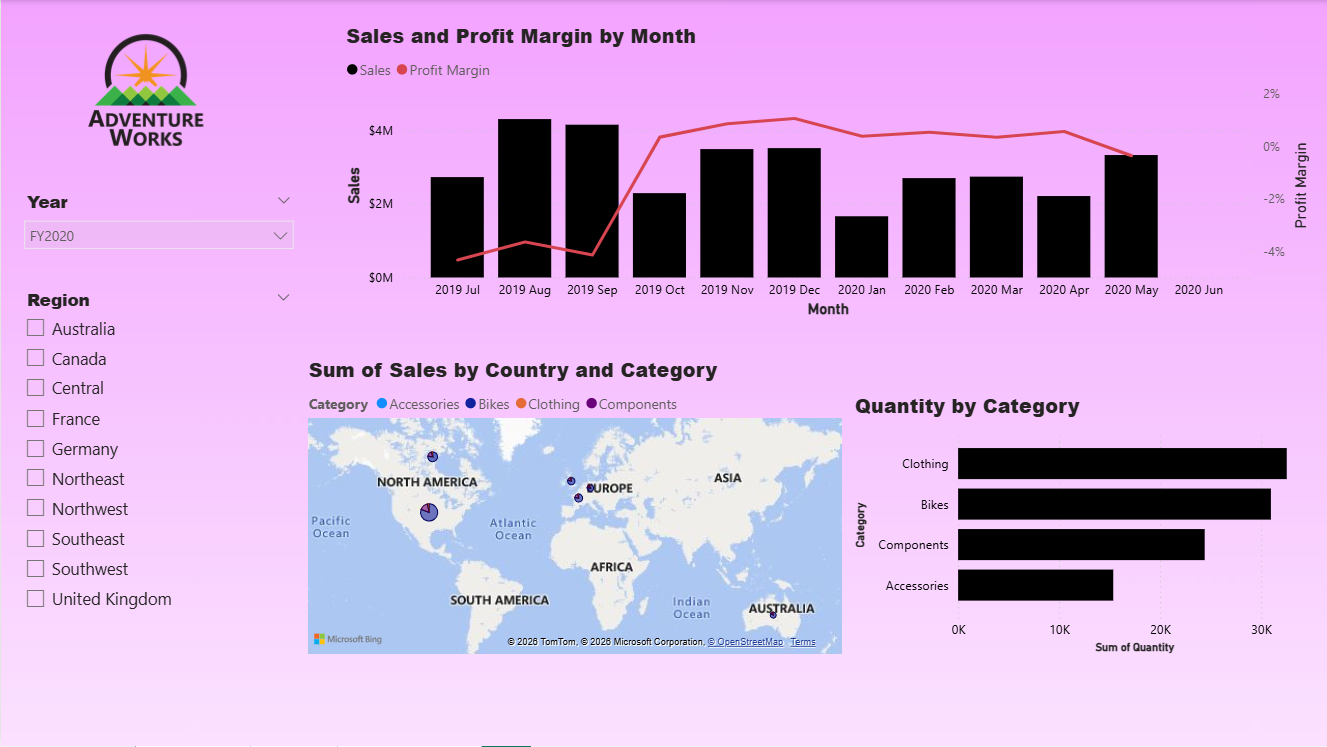

What the dashboard file says about the page in this screenshot:
{"tool":"powerbi","page":{"name":"Overview","canvas":[1280,720],"ordinal":0},"visuals":[{"type":"slicer","fields":{"Values":["Date Table.Display Year for Filter"]},"box":[12.2,178.5,280,70.9],"z":0},{"type":"slicer","fields":{"Values":["Region.Region"]},"box":[12.1,272.7,279.9,326.9],"z":1000},{"type":"lineStackedColumnComboChart","fields":{"Category":["Date Table.Year Month for combo chart"],"Y":["Sum(Sales.Sales)"],"Y2":["Sales.Profit Margin"]},"box":[327.7,20.8,939.1,291],"z":2000},{"type":"map","fields":{"Category":["Region.Country"],"Series":["Product.Category"],"Size":["Sum(Sales.Sales)"]},"box":[292.3,342.4,524.6,293.5],"z":3000},{"type":"clusteredBarChart","title":" Quantity by Category","fields":{"Category":["Product.Category"],"Y":["Sum(Sales.Quantity)"]},"box":[819.3,377.9,461,258],"z":4000},{"type":"image","box":[30.6,20.8,218.9,133.3],"z":5000}]}

Visuals, with their boxes in screenshot pixels (x1, y1, x2, y2), scaled from the page's 1280x720 canvas onto the 1327x747 screenshot:
slicer - Date Table.Display Year for Filter: Rect(13, 185, 303, 259)
slicer - Region.Region: Rect(13, 283, 303, 622)
lineStackedColumnComboChart - Date Table.Year Month for combo chart x Sum(Sales.Sales): Rect(340, 22, 1313, 323)
map - Region.Country x Product.Category: Rect(303, 355, 847, 660)
" Quantity by Category" clusteredBarChart: Rect(849, 392, 1326, 660)
image: Rect(32, 22, 259, 160)
